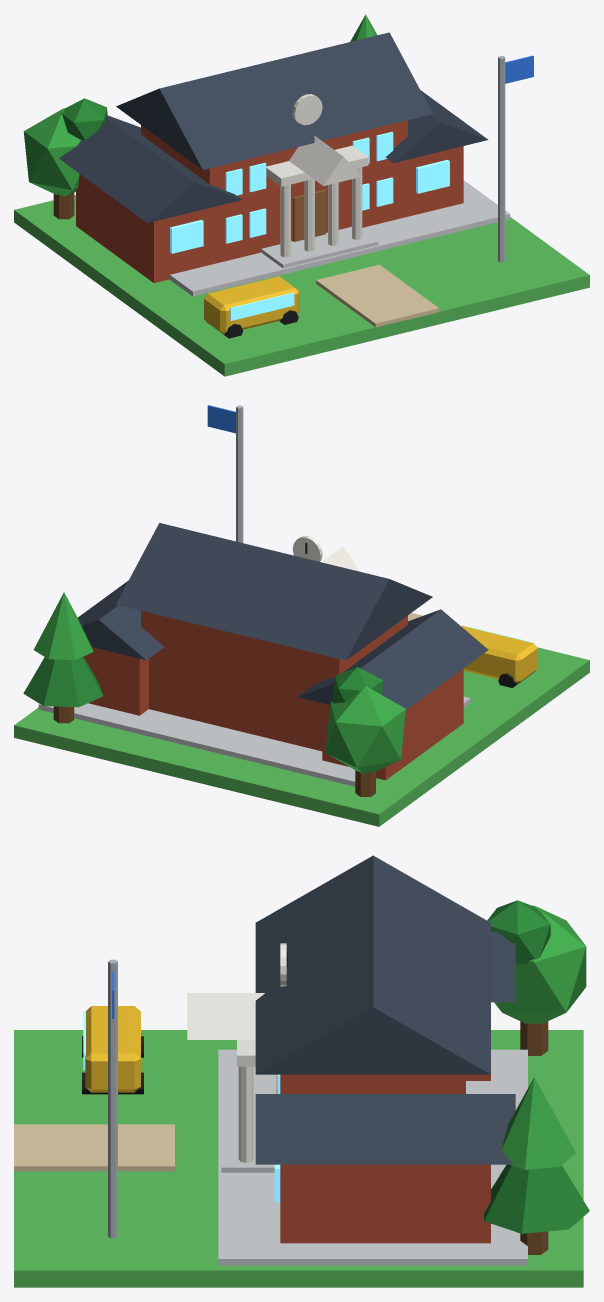
Rendered from sc-school-BqzYxb_3.glb.
3 renders of one model, top to bottom at view 1: azimuth 30°, elevation 25°; view 2: azimuth 150°, elevation 25°; view 3: azimuth 270°, elevation 25°, orthographic. The views are drawn at different scales.
Visible parts, largest first — view 1: sc-school; view 2: sc-school; view 3: sc-school.
Boxes of the visible parts, bbox=[...] form: sc-school: bbox=[14, 14, 589, 376]; sc-school: bbox=[14, 405, 589, 826]; sc-school: bbox=[14, 855, 589, 1287].
Bounding box in the file's own units: 0.9363 × 0.52 × 0.93.
